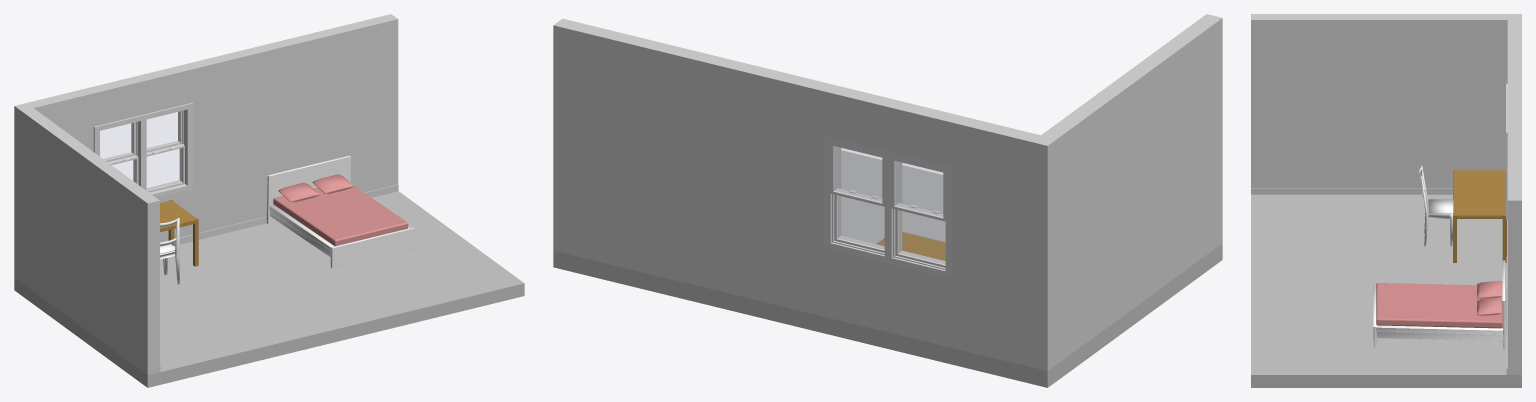
Rendered from L12_W20_furniture2_daylight1.glb.
The picture shows the model from 3 angles, left to right: view 1: azimuth 30°, elevation 25°; view 2: azimuth 150°, elevation 25°; view 3: azimuth 270°, elevation 25°; orthographic projection. The views are drawn at different scales.
Size of the model in its own units: 248 by 116 by 152.
